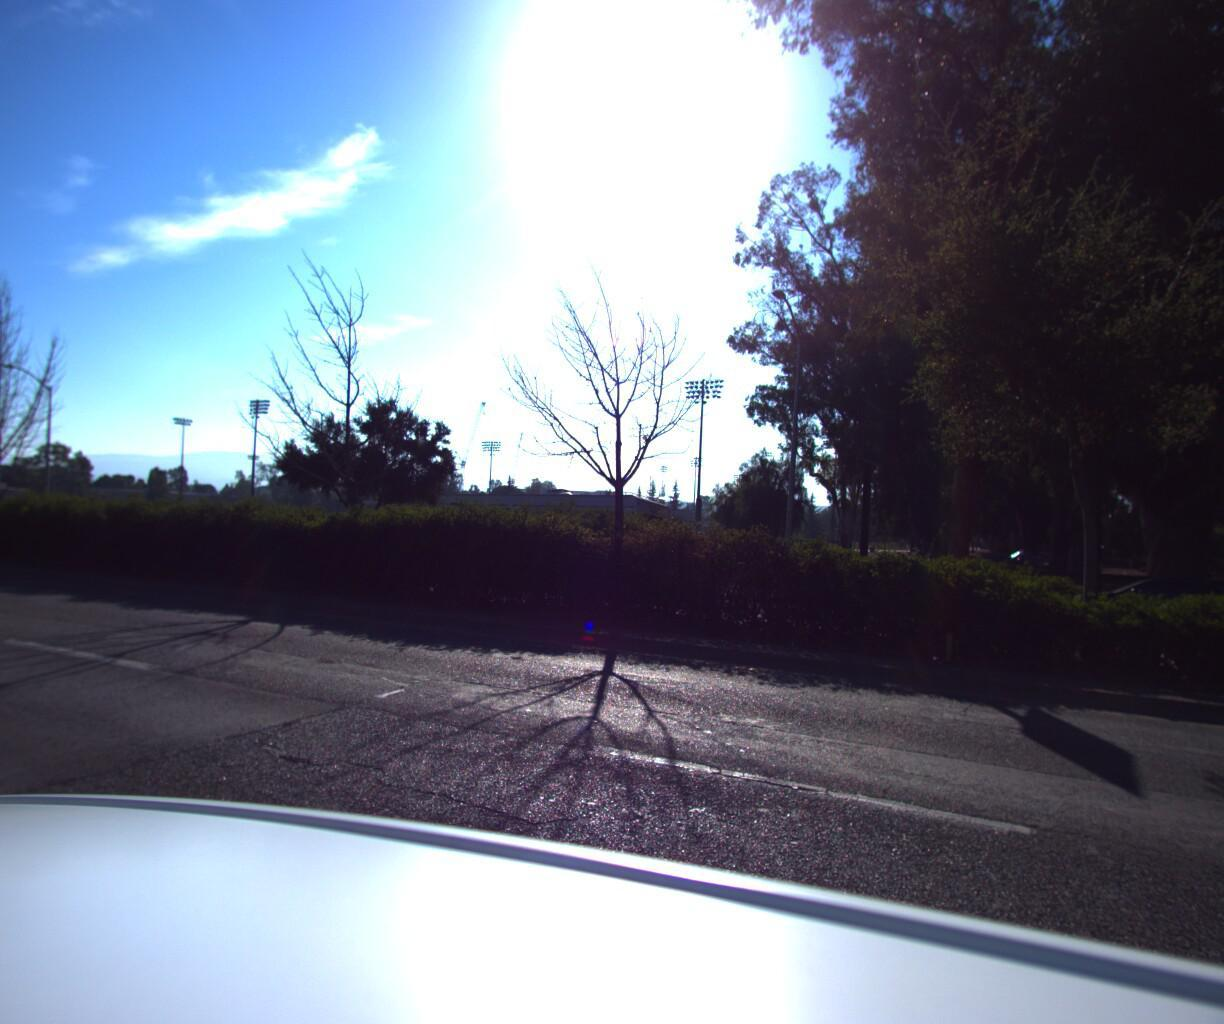car: (1052, 567, 1224, 651)
other_vehicle: (405, 482, 690, 601)
